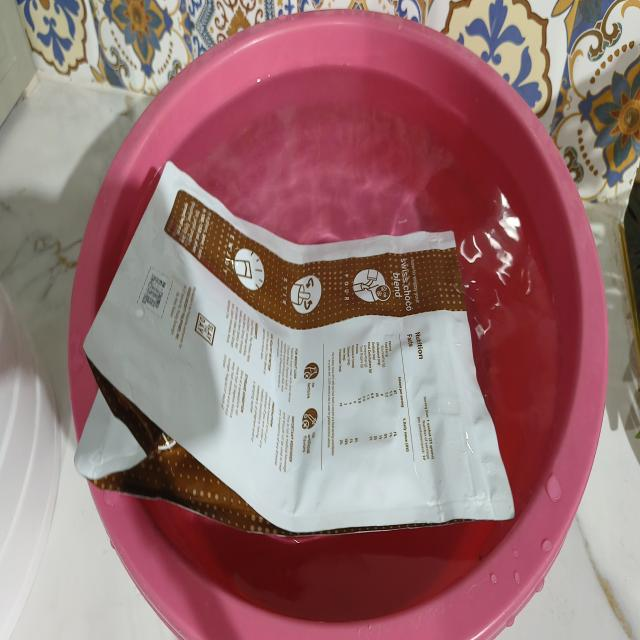Plastic Pouch: (84, 162, 514, 536)
